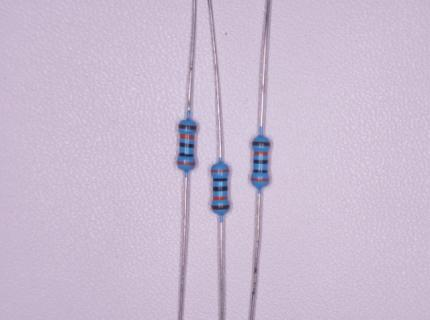Black band: (179, 142, 195, 148), (178, 152, 194, 158), (212, 186, 228, 192), (253, 159, 269, 164), (213, 177, 228, 182), (253, 169, 268, 174)
Brown band: (178, 124, 197, 130), (211, 205, 230, 210), (252, 142, 271, 146)
Orange band: (176, 161, 196, 166), (251, 177, 269, 182), (180, 134, 195, 140), (210, 169, 230, 173), (213, 196, 228, 201), (254, 151, 268, 156)
